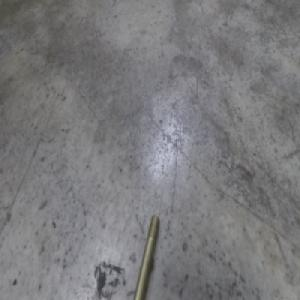Bolt: (130, 205, 159, 300)
